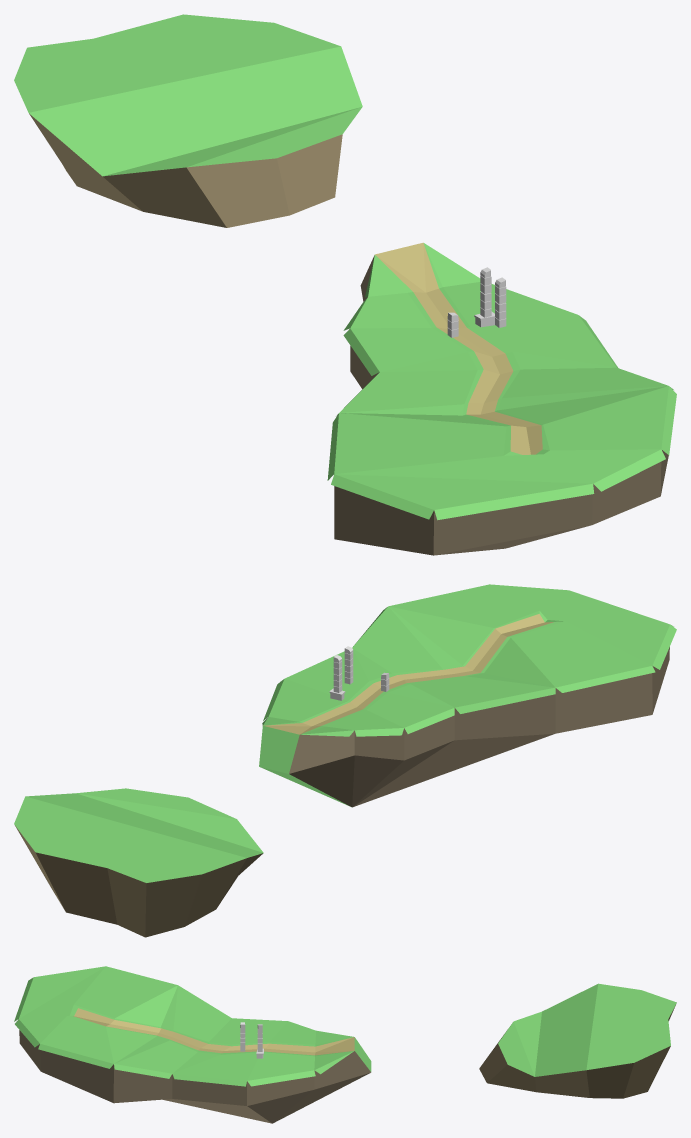
The model's file is SM_IslandTower.fbx.
3 views of the same model, one above another, from view 1: azimuth 30°, elevation 25°; view 2: azimuth 150°, elevation 25°; view 3: azimuth 270°, elevation 25° (orthographic). The views are drawn at different scales.
Visible parts, largest first — view 1: Cylinder.001, Cylinder.002, Cube.001; view 2: Cylinder.001, Cylinder.002; view 3: Cylinder.001, Cylinder.002.
Part boxes in pixels (x1=…): Cylinder.001: x1=327, y1=242, x2=676, y2=555; Cylinder.002: x1=14, y1=14, x2=362, y2=227; Cube.001: x1=474, y1=267, x2=495, y2=327; Cylinder.001: x1=259, y1=584, x2=676, y2=807; Cylinder.002: x1=14, y1=788, x2=263, y2=937; Cylinder.001: x1=14, y1=966, x2=371, y2=1123; Cylinder.002: x1=479, y1=983, x2=676, y2=1098.
Bounding box in the file's own units: 2489 × 1038 × 5758.
